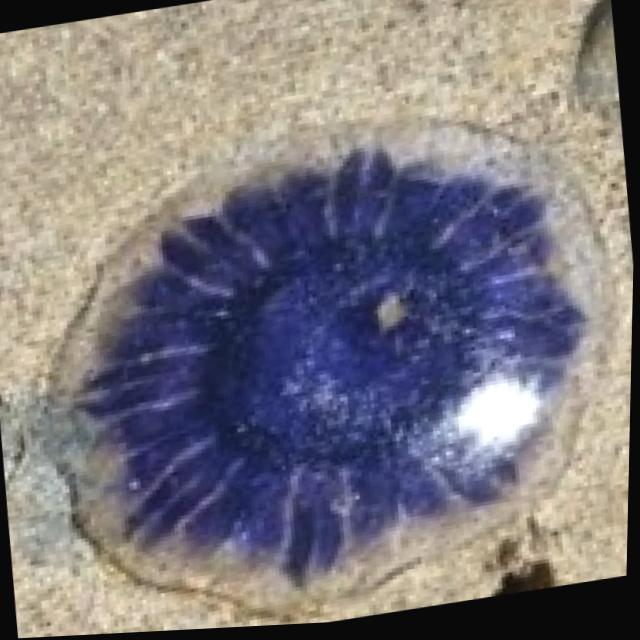Box-jellyfish: (37, 109, 629, 630)
